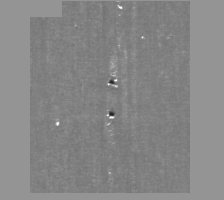oxl: (35, 10, 189, 190)
